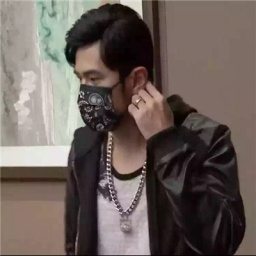correctlyWear: (72, 51, 147, 133)
